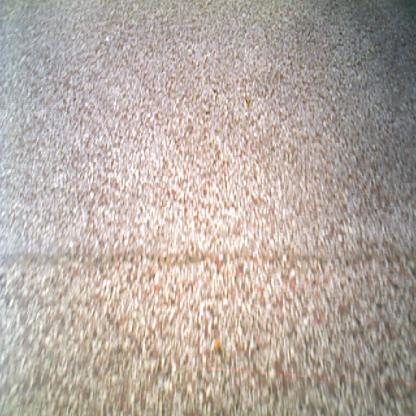dirty: (212, 334, 223, 353)
